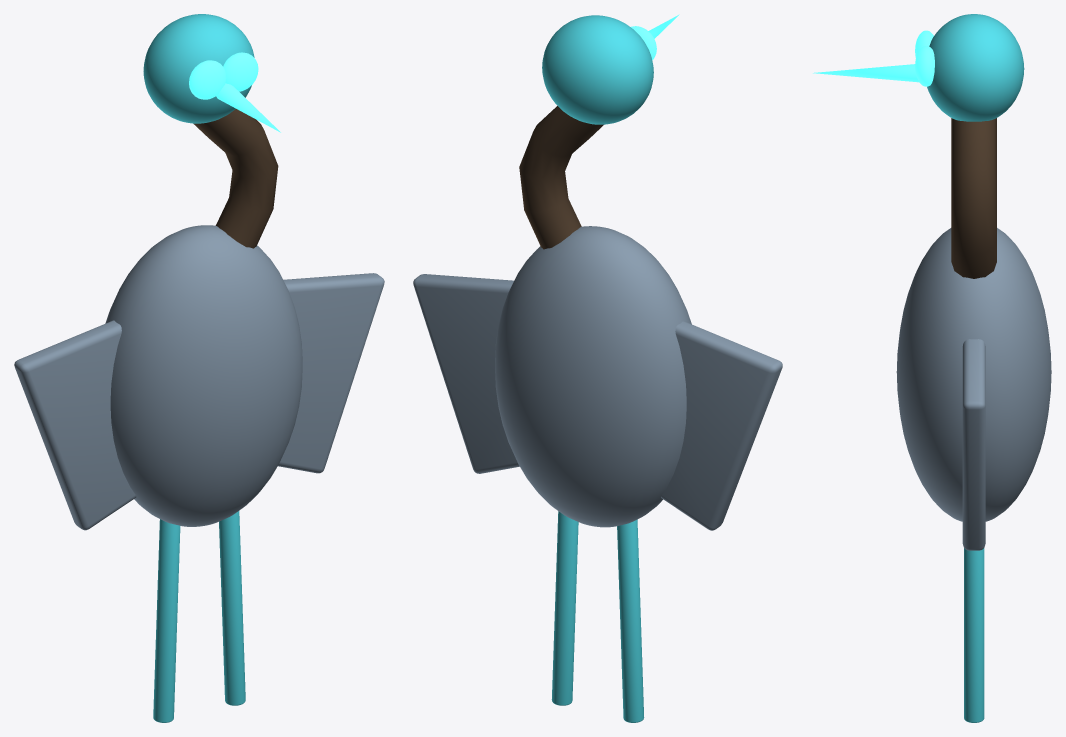
The model's file is avian_v6.glb.
3 views of the same model, side by side, from view 1: azimuth 30°, elevation 25°; view 2: azimuth 150°, elevation 25°; view 3: azimuth 270°, elevation 25° (orthographic).
Parts seen in each view (by area): view 1: CRANE_BODY_PRIMARY, CRANE_WING_PRIMARY, CRANE_WING_PRIMARY.001, CRANE_HEAD_ACCENT, CRANE_NECK_SECONDARY, CRANE_LEG_ACCENT, CRANE_LEG_ACCENT.001, EYE_EMISSIVE, EYE_EMISSIVE.001, CRANE_BEAK_EMISSIVE; view 2: CRANE_BODY_PRIMARY, CRANE_WING_PRIMARY, CRANE_WING_PRIMARY.001, CRANE_HEAD_ACCENT, CRANE_NECK_SECONDARY, CRANE_LEG_ACCENT, CRANE_LEG_ACCENT.001; view 3: CRANE_BODY_PRIMARY, CRANE_HEAD_ACCENT, CRANE_NECK_SECONDARY, CRANE_WING_PRIMARY.001, CRANE_LEG_ACCENT.001, CRANE_BEAK_EMISSIVE, EYE_EMISSIVE.001.
Part boxes in pixels (x1=…): CRANE_BODY_PRIMARY: x1=105, y1=225, x2=302, y2=526; CRANE_WING_PRIMARY: x1=14, y1=320, x2=136, y2=530; CRANE_WING_PRIMARY.001: x1=278, y1=273, x2=384, y2=473; CRANE_HEAD_ACCENT: x1=143, y1=14, x2=254, y2=123; CRANE_NECK_SECONDARY: x1=193, y1=109, x2=278, y2=248; CRANE_LEG_ACCENT: x1=153, y1=519, x2=180, y2=722; CRANE_LEG_ACCENT.001: x1=219, y1=511, x2=245, y2=705; EYE_EMISSIVE: x1=189, y1=60, x2=226, y2=99; EYE_EMISSIVE.001: x1=223, y1=52, x2=258, y2=91; CRANE_BEAK_EMISSIVE: x1=216, y1=83, x2=280, y2=132; CRANE_BODY_PRIMARY: x1=495, y1=226, x2=691, y2=527; CRANE_WING_PRIMARY: x1=661, y1=321, x2=782, y2=530; CRANE_WING_PRIMARY.001: x1=413, y1=274, x2=519, y2=473; CRANE_HEAD_ACCENT: x1=542, y1=15, x2=653, y2=124; CRANE_NECK_SECONDARY: x1=519, y1=106, x2=603, y2=249; CRANE_LEG_ACCENT: x1=617, y1=519, x2=644, y2=722; CRANE_LEG_ACCENT.001: x1=551, y1=511, x2=578, y2=705; CRANE_BODY_PRIMARY: x1=896, y1=228, x2=1051, y2=521; CRANE_HEAD_ACCENT: x1=927, y1=14, x2=1024, y2=121; CRANE_NECK_SECONDARY: x1=951, y1=118, x2=996, y2=278; CRANE_WING_PRIMARY.001: x1=962, y1=339, x2=985, y2=550; CRANE_LEG_ACCENT.001: x1=964, y1=548, x2=984, y2=722; CRANE_BEAK_EMISSIVE: x1=813, y1=64, x2=918, y2=82; EYE_EMISSIVE.001: x1=915, y1=46, x2=934, y2=86.
Bounding box in the file's own units: 1.82 × 3.31 × 1.06.
